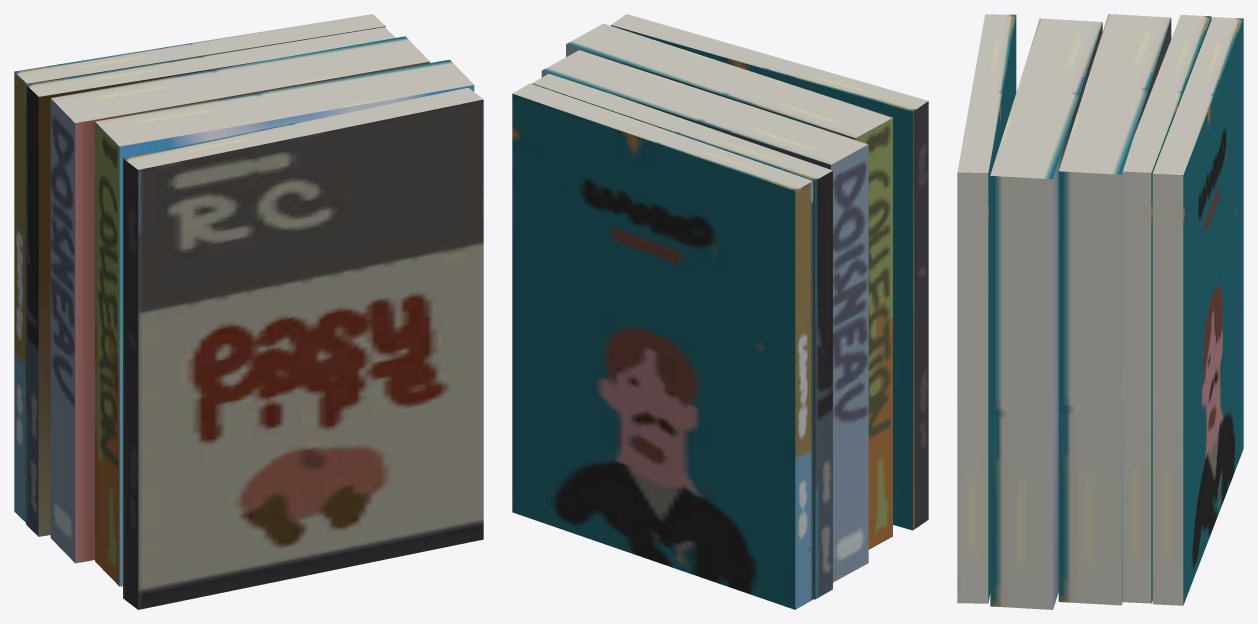
The model's file is Libros_1.obj.
3 renders of one model, left to right at view 1: azimuth 30°, elevation 25°; view 2: azimuth 150°, elevation 25°; view 3: azimuth 270°, elevation 25°, orthographic. The views are drawn at different scales.
Visible parts, largest first — view 1: Libros_1:Mesh0; view 2: Libros_1:Mesh0; view 3: Libros_1:Mesh0.
Part boxes in pixels (<box>): Libros_1:Mesh0: <box>14,14,483,609</box>; Libros_1:Mesh0: <box>512,14,928,609</box>; Libros_1:Mesh0: <box>957,14,1243,609</box>.
Bounding box in the file's own units: 0.2204 × 0.268 × 0.1612.
Materials: 1 (1 with a texture image).
